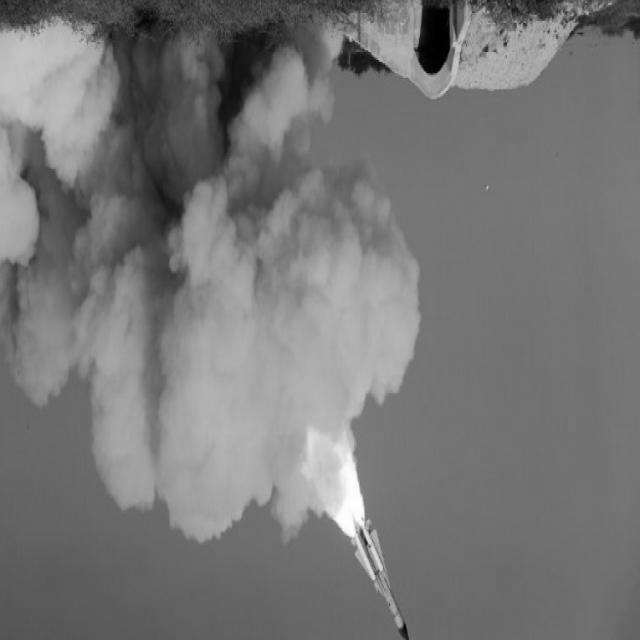missile: (348, 514, 412, 640)
